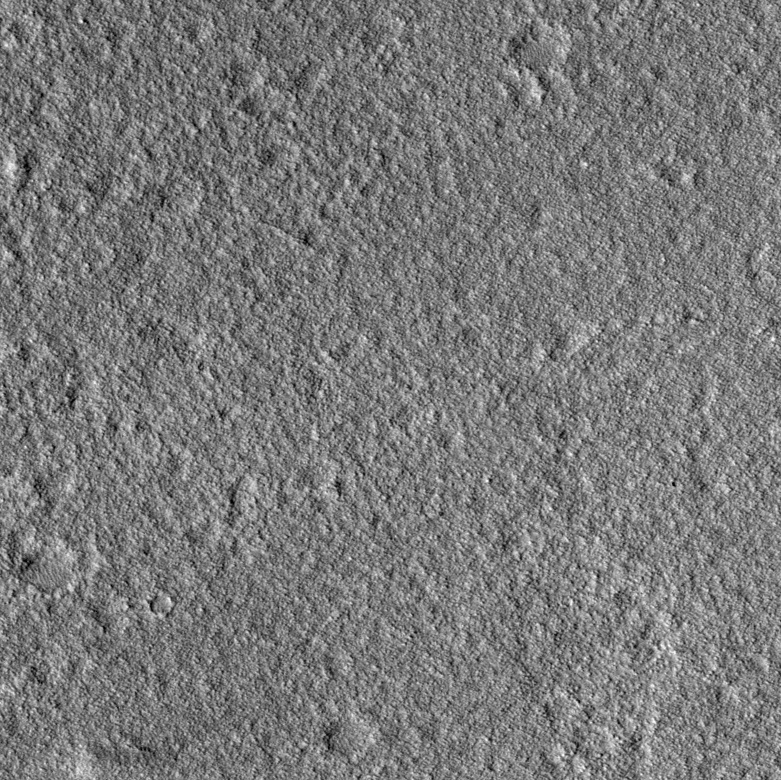dust_devil: (68, 733, 184, 780)
